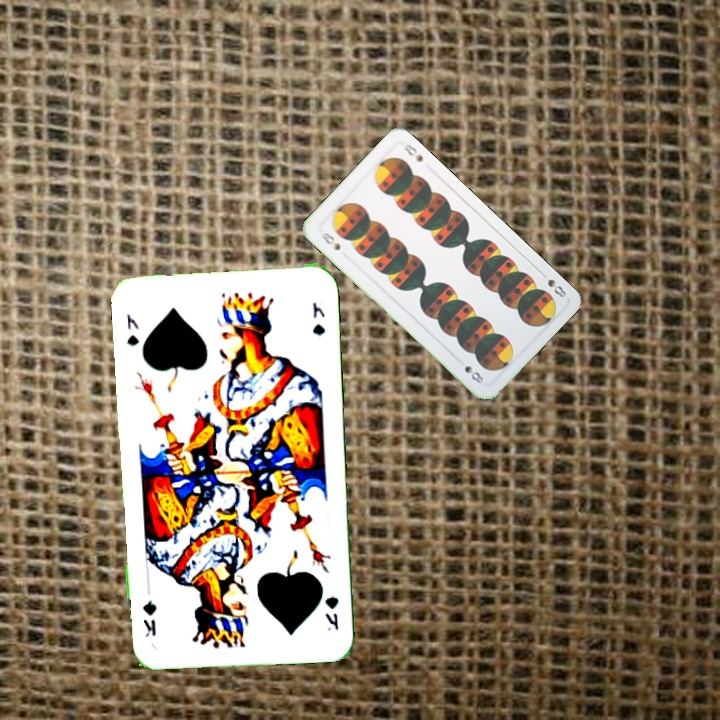GK: (321, 592, 341, 634), (122, 310, 142, 349)
S8: (536, 267, 569, 300), (317, 228, 343, 253)
